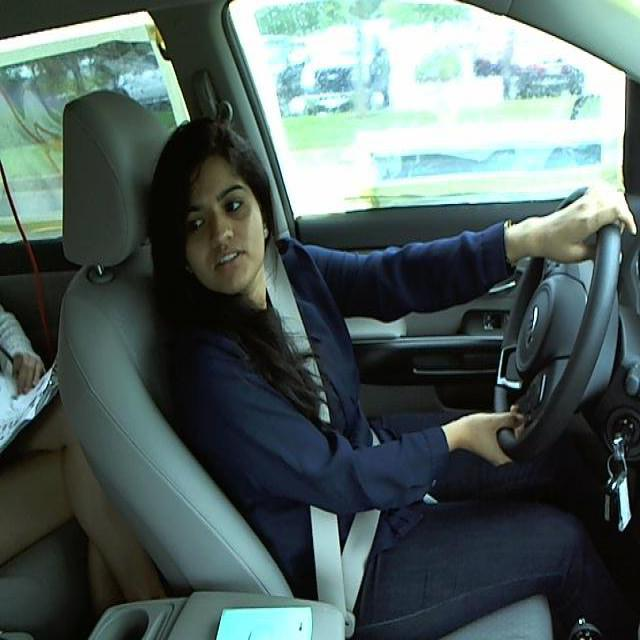seatbelt: (269, 271, 378, 596)
